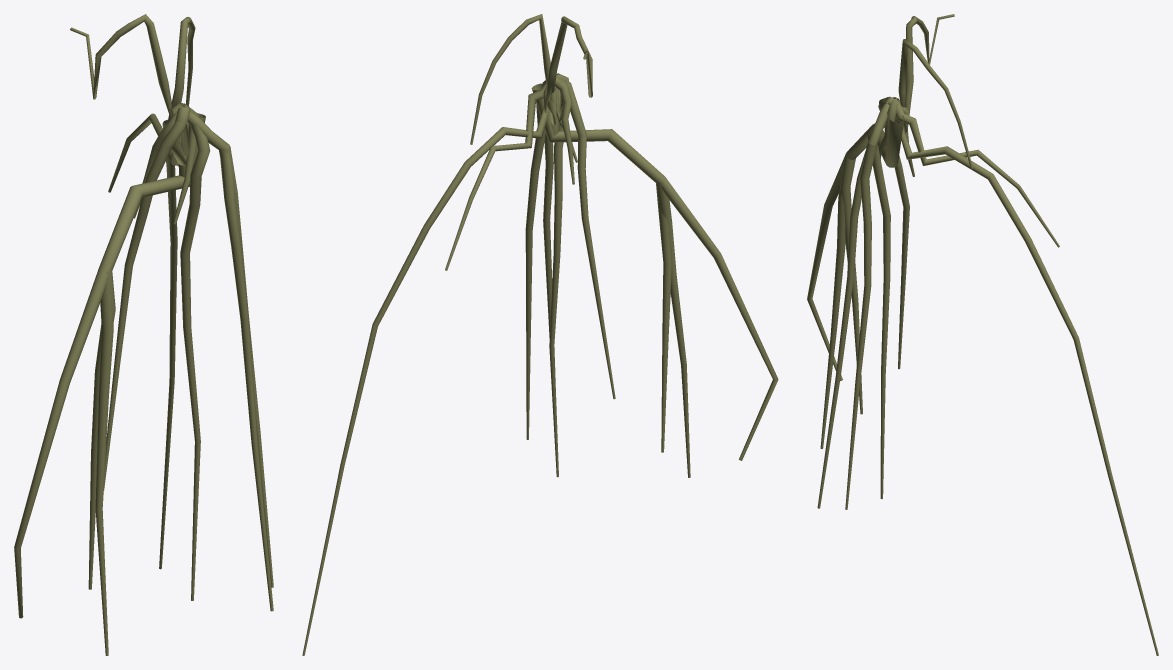
The model's file is Industrial_Ruin_Vine3.fbx.
3 renders of one model, left to right at view 1: azimuth 30°, elevation 25°; view 2: azimuth 150°, elevation 25°; view 3: azimuth 270°, elevation 25°, orthographic. The views are drawn at different scales.
Parts seen in each view (by area): view 1: IVY_Curve.004; view 2: IVY_Curve.004; view 3: IVY_Curve.004.
Boxes of the visible parts, <box> form: IVY_Curve.004: <box>14,14,273,655</box>; IVY_Curve.004: <box>302,14,778,655</box>; IVY_Curve.004: <box>807,14,1158,655</box>.
Bounding box in the file's own units: 232 × 431 × 240.
